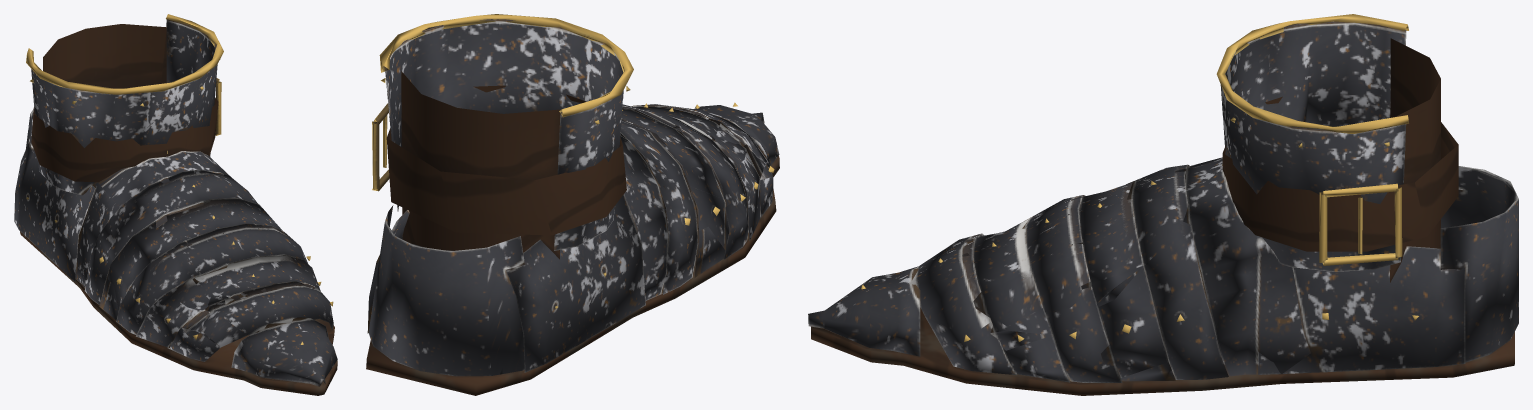
File: SM_EagleSabatons_L_LOD3.fbx
3 views of the same model, side by side, from view 1: azimuth 30°, elevation 25°; view 2: azimuth 150°, elevation 25°; view 3: azimuth 270°, elevation 25° (orthographic). The views are drawn at different scales.
Visible parts, largest first — view 1: SM_EagleSabatons_L_LOD3; view 2: SM_EagleSabatons_L_LOD3; view 3: SM_EagleSabatons_L_LOD3.
Part boxes in pixels (bbox=[...]): SM_EagleSabatons_L_LOD3: bbox=[14, 14, 337, 395]; SM_EagleSabatons_L_LOD3: bbox=[366, 14, 779, 395]; SM_EagleSabatons_L_LOD3: bbox=[808, 14, 1518, 395].
Size of the model in its own units: 0.1101 by 0.1169 by 0.2811.
